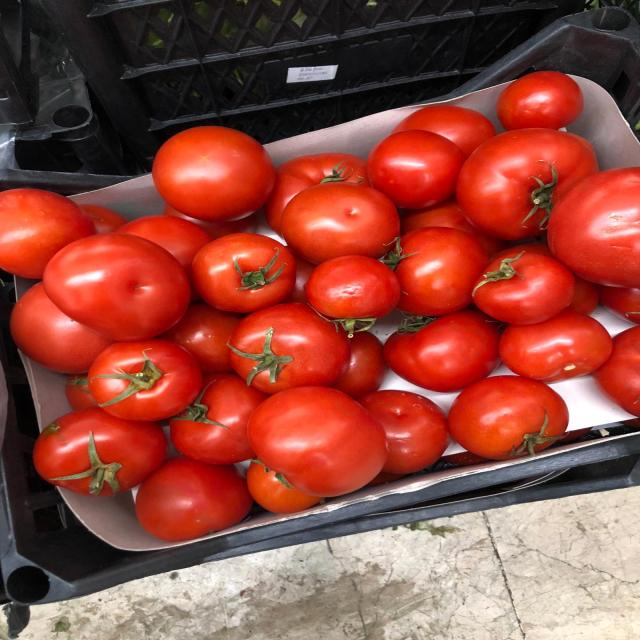tomato: (245, 380, 388, 496), (431, 361, 578, 464), (144, 121, 284, 221), (72, 329, 217, 421), (454, 139, 586, 238), (207, 306, 357, 391), (32, 405, 169, 497), (268, 177, 407, 255), (188, 229, 304, 314), (473, 242, 578, 327), (302, 253, 406, 337)
